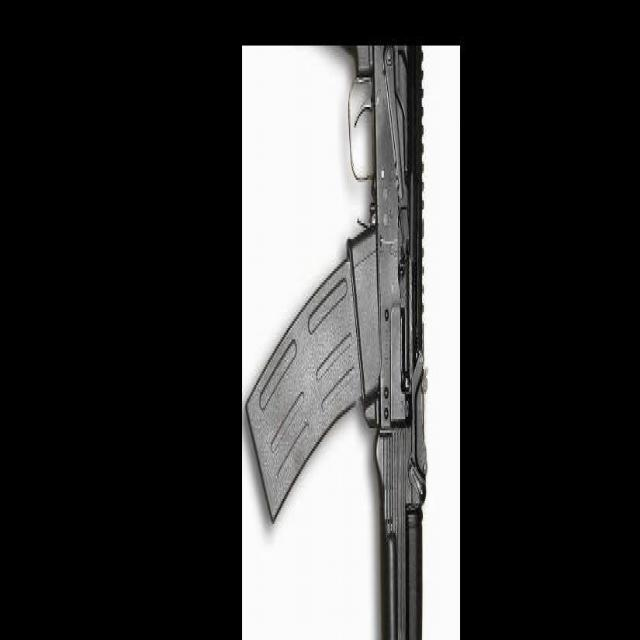weapon: (246, 48, 428, 640)
